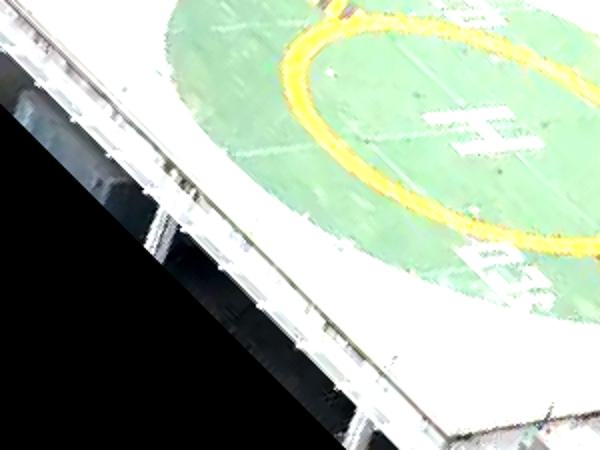Apron: (279, 9, 600, 263)
